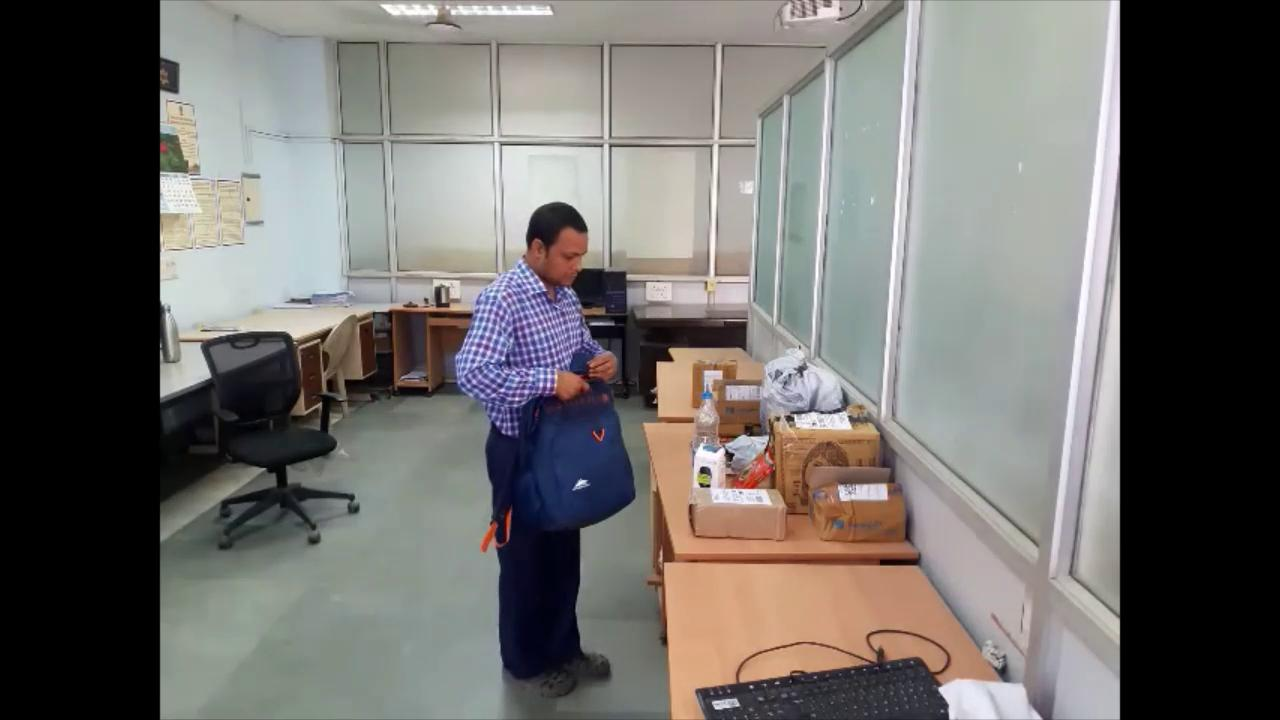shoplifting: (449, 179, 638, 701)
